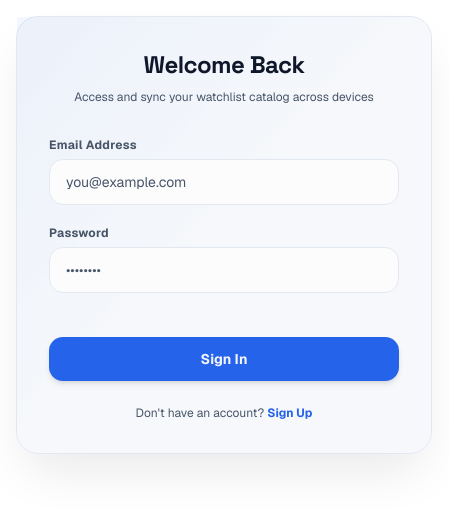
Test case: Validated Auth Form Component › shows accessible validation error when submitting with an invalid email
Type "candidate@domain" into the field labelled "Email Address" at (224, 182), box [49,159,399,205]
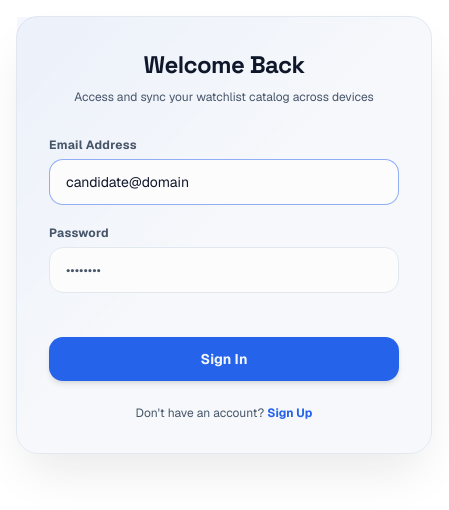
Type "validpass123" into the password field labelled "Password" at (224, 270), box [49,247,399,293]
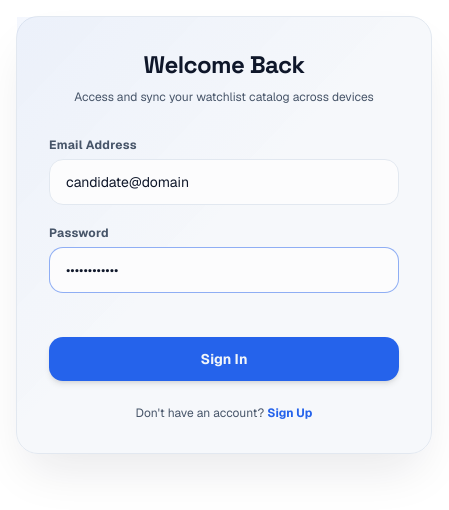
Click the button "Sign In" at (224, 359), box [49,337,399,381]
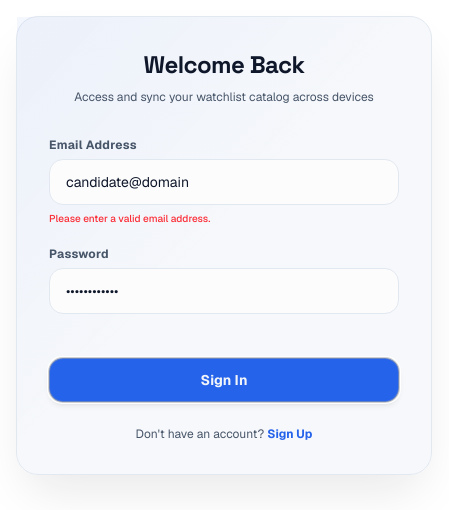
Now the text "Please enter a valid email address." is shown, box [49,212,210,225]
